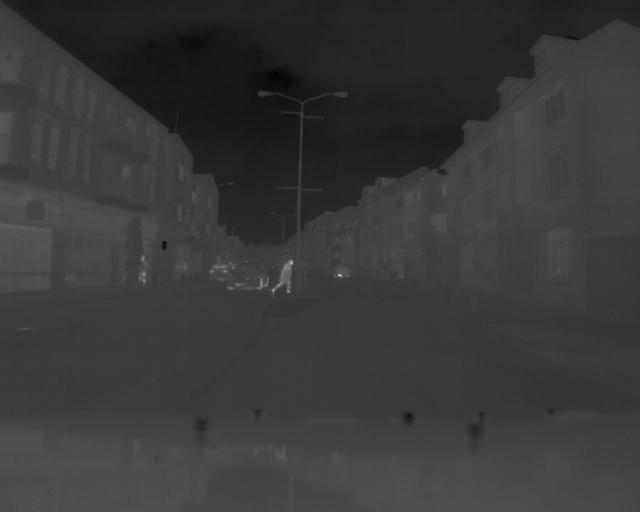car: (225, 262, 271, 293)
person: (270, 258, 294, 295), (138, 254, 150, 286)
